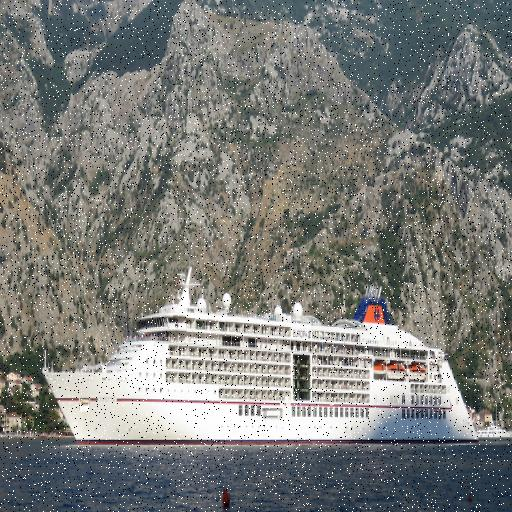cruises: (42, 260, 480, 450)
